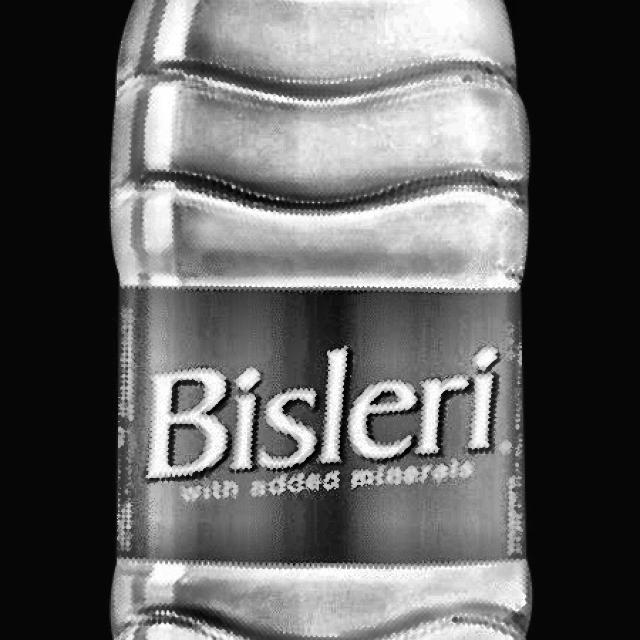bottle: (98, 0, 545, 640)
